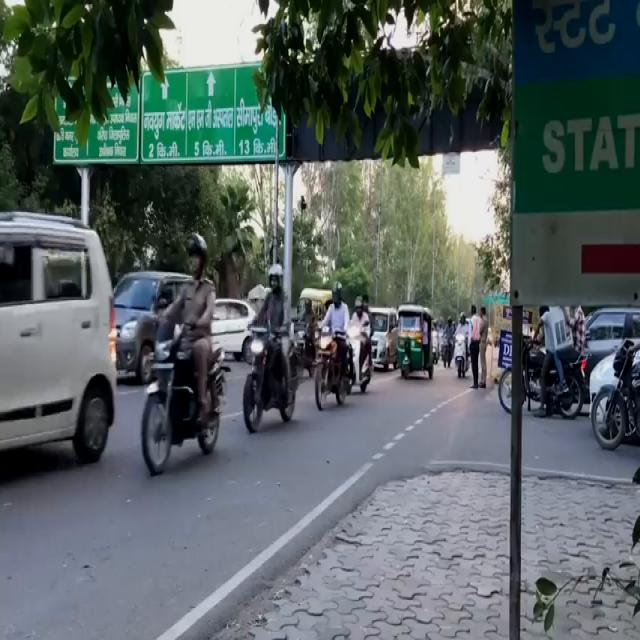MOTORCYCLE: (138, 319, 223, 477), (242, 321, 300, 432), (593, 349, 640, 455), (312, 319, 368, 406), (454, 323, 468, 383)
